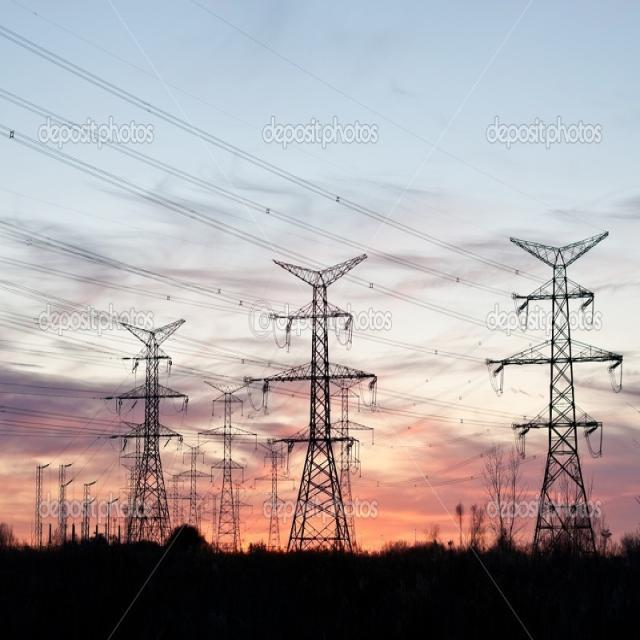non-critical vegetation: (495, 230, 619, 554), (272, 264, 362, 554), (112, 316, 180, 542), (198, 366, 245, 534)
